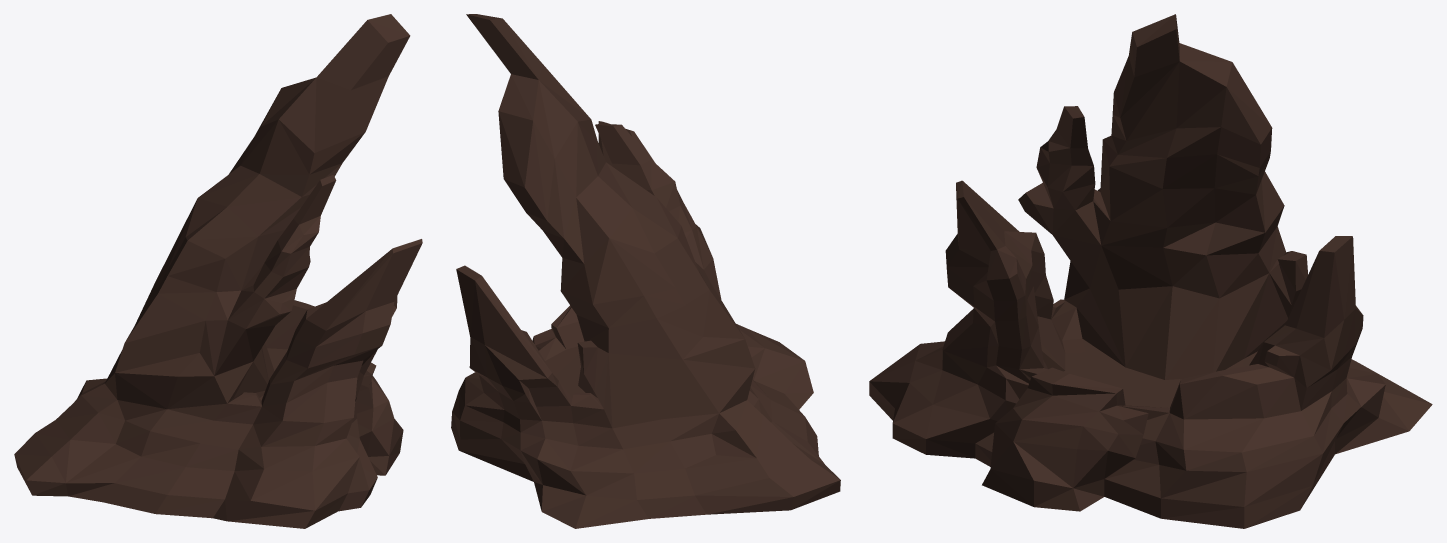
Rendered from Beveled stone.FBX.
The picture shows the model from 3 angles, left to right: view 1: azimuth 30°, elevation 25°; view 2: azimuth 150°, elevation 25°; view 3: azimuth 270°, elevation 25°; orthographic projection. The views are drawn at different scales.
Visible parts, largest first — view 1: Cylinder001; view 2: Cylinder001; view 3: Cylinder001.
Boxes of the visible parts, x1,y1,x2,y2 form: Cylinder001: (14, 14, 422, 528); Cylinder001: (451, 14, 840, 528); Cylinder001: (869, 14, 1432, 528).
Size of the model in its own units: 9.18 by 9.15 by 9.2.
